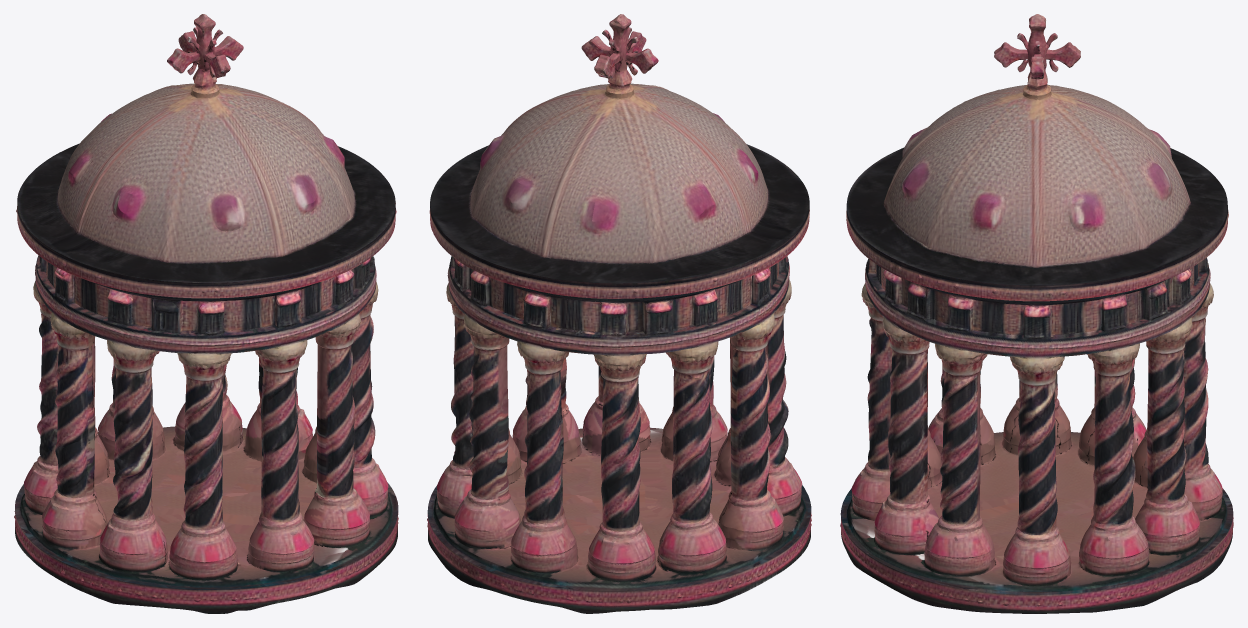
The model's file is rook_black.glb.
The picture shows the model from 3 angles, left to right: view 1: azimuth 30°, elevation 25°; view 2: azimuth 150°, elevation 25°; view 3: azimuth 270°, elevation 25°; orthographic projection.
Parts seen in each view (by area): view 1: model; view 2: model; view 3: model.
Part boxes in pixels (x1,y1,x2,y2): model: (14,14,398,613); model: (427,14,811,613); model: (840,14,1233,613).
Size of the model in its own units: 1.27 by 1.9 by 1.3.
1 material, 1 textured.
